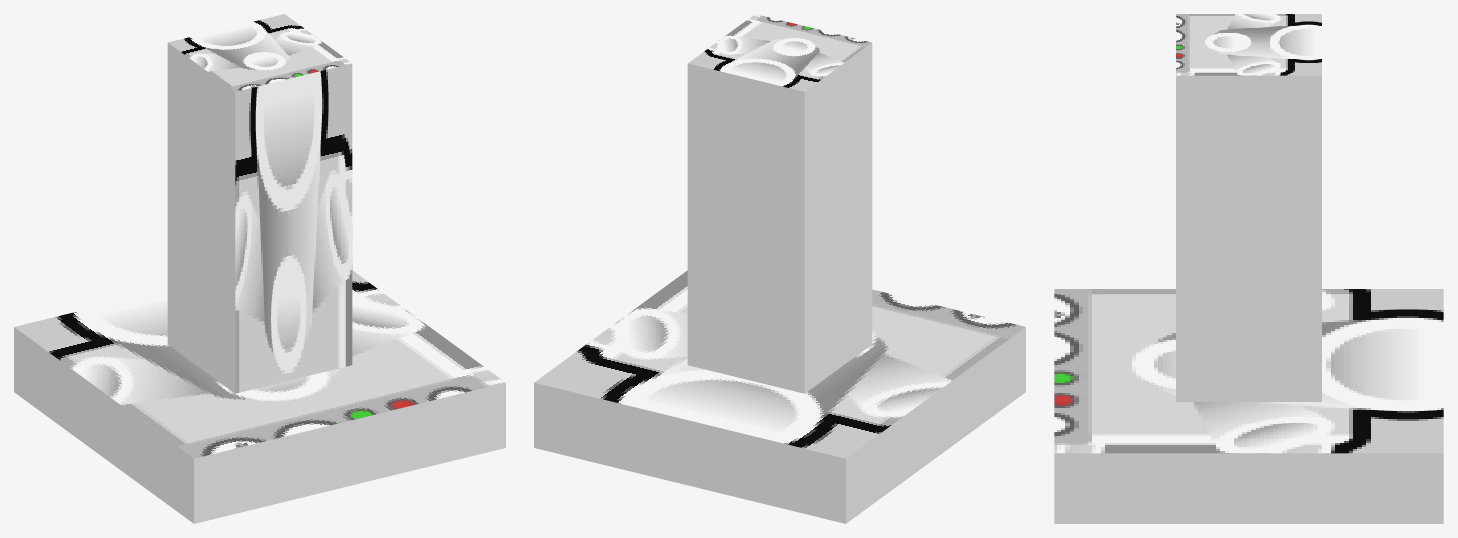
The model's file is Building_Autobong.glb.
3 views of the same model, side by side, from view 1: azimuth 30°, elevation 25°; view 2: azimuth 150°, elevation 25°; view 3: azimuth 270°, elevation 25° (orthographic). The views are drawn at different scales.
Parts seen in each view (by area): view 1: Autobong; view 2: Autobong; view 3: Autobong.
Boxes of the visible parts, bbox=[...] form: Autobong: bbox=[14, 14, 505, 523]; Autobong: bbox=[534, 14, 1025, 523]; Autobong: bbox=[1054, 14, 1443, 523].
Bounding box in the file's own units: 0.8 × 0.9 × 0.8.
Materials: 1 (1 with a texture image).
